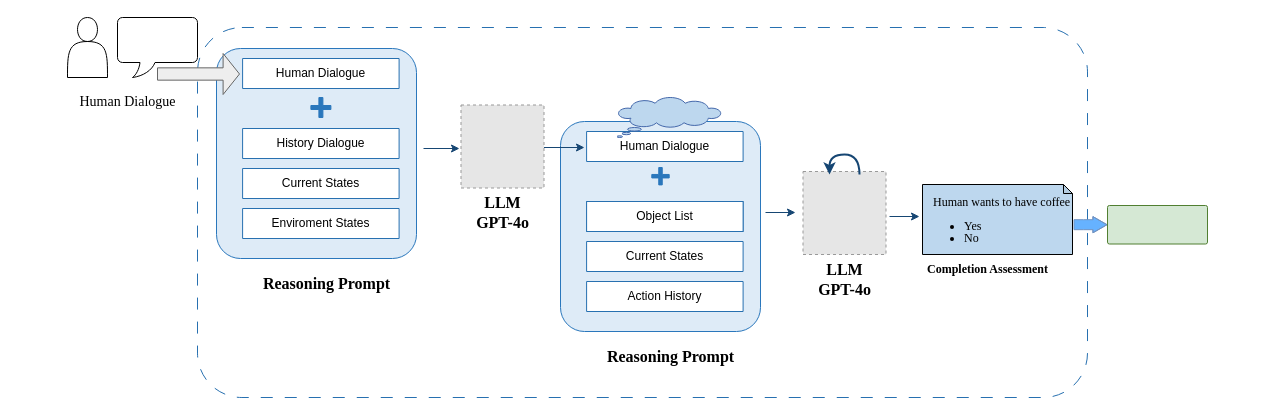
Some shapes in this 1274 by 415 pixel diagram are drawn without their labels. Grey dashed boxes stand in for pictures. The centre of each missing label's shape, as x and y in pixels:
Human wants to have a coffee: the point at 668,117
I'm sleepy: the point at 157,47
Low-Level Mind: the point at 1157,224
